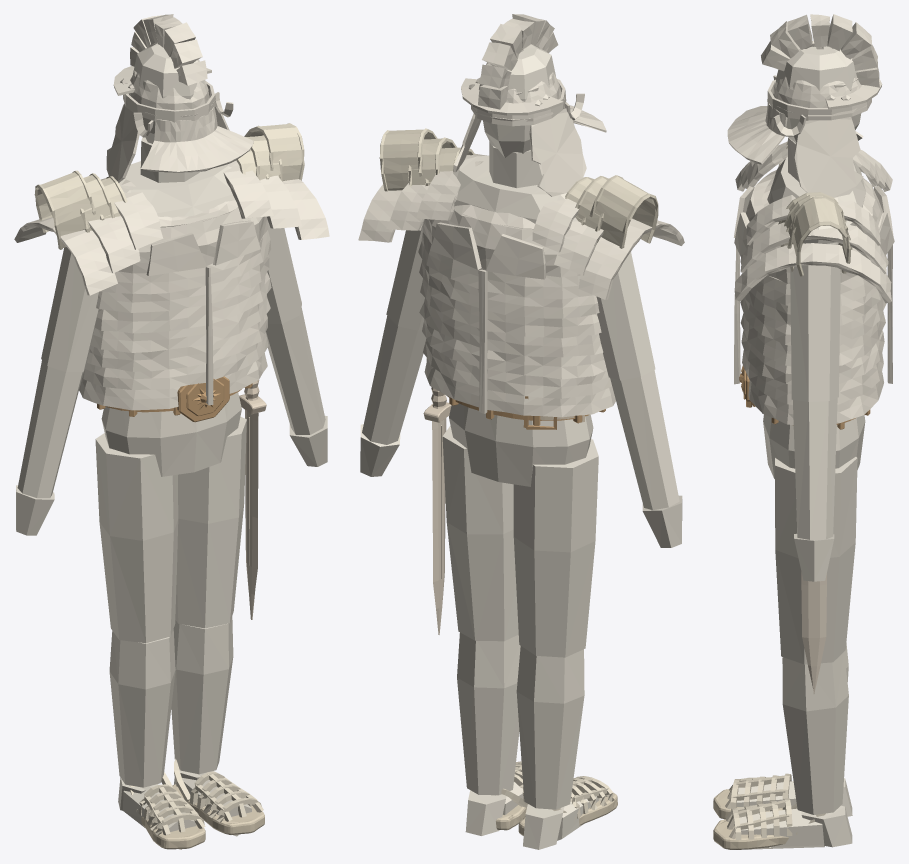
The model's file is roman-male-heroic.glb.
3 views of the same model, side by side, from view 1: azimuth 30°, elevation 25°; view 2: azimuth 150°, elevation 25°; view 3: azimuth 270°, elevation 25° (orthographic). The views are drawn at different scales.
Parts seen in each view (by area): view 1: leg_upper_l, leg_upper_r, torso, leg_lower_l, leg_lower_r, arm_lower_l, helmet:neck_guard, arm_upper_l, arm_lower_r, cuirass:girth_hoop_4, cuirass:girth_hoop_2, cuirass:girth_hoop_1 (+35 smaller); view 2: leg_upper_l, leg_upper_r, torso, leg_lower_l, leg_lower_r, arm_lower_l, arm_lower_r, arm_upper_l, cuirass:girth_hoop_1, cuirass:girth_hoop_2, cuirass:girth_hoop_0, cuirass:girth_hoop_3 (+34 smaller); view 3: leg_upper_r, leg_lower_r, arm_upper_r, arm_lower_r, helmet:cheek_guard_l, torso, cuirass:shoulder_lame_l2, head, helmet:neck_guard, cuirass:shoulder_lame_l1, gladius:blade, cuirass:girth_hoop_3 (+36 smaller).
Part boxes in pixels (box(x1,y1,x2,y2)): leg_upper_l: box(95, 433, 178, 643); leg_upper_r: box(175, 416, 246, 628); torso: box(101, 161, 241, 476); leg_lower_l: box(109, 629, 175, 787); leg_lower_r: box(171, 616, 233, 774); arm_lower_l: box(17, 360, 83, 498); helmet:neck_guard: box(140, 107, 253, 172); arm_upper_l: box(41, 247, 98, 372); arm_lower_r: box(266, 307, 325, 434); cuirass:girth_hoop_4: box(94, 272, 271, 333); cuirass:girth_hoop_2: box(87, 314, 267, 371); cuirass:girth_hoop_1: box(82, 332, 268, 389); leg_upper_l: box(513, 439, 598, 657); leg_upper_r: box(442, 425, 518, 641); torso: box(449, 156, 593, 486); leg_lower_l: box(516, 646, 584, 809); leg_lower_r: box(457, 632, 520, 795); arm_lower_l: box(610, 370, 679, 509); arm_lower_r: box(362, 316, 426, 444); arm_upper_l: box(596, 243, 655, 380); cuirass:girth_hoop_1: box(423, 338, 611, 398); cuirass:girth_hoop_2: box(422, 318, 606, 379); cuirass:girth_hoop_0: box(424, 359, 615, 417); cuirass:girth_hoop_3: box(419, 298, 603, 357); leg_upper_r: box(775, 457, 857, 664); leg_lower_r: box(782, 652, 848, 814); arm_upper_r: box(790, 242, 840, 401); arm_lower_r: box(793, 398, 837, 539); helmet:cheek_guard_l: box(794, 117, 863, 197); torso: box(763, 157, 865, 478); cuirass:shoulder_lame_l2: box(734, 243, 891, 303); head: box(776, 46, 861, 143); helmet:neck_guard: box(727, 103, 787, 164); cuirass:shoulder_lame_l1: box(740, 222, 886, 273); gladius:blade: box(801, 572, 826, 693); cuirass:girth_hoop_3: box(740, 311, 885, 366).
Size of the model in its own units: 0.8077 by 1.97 by 0.3954.
